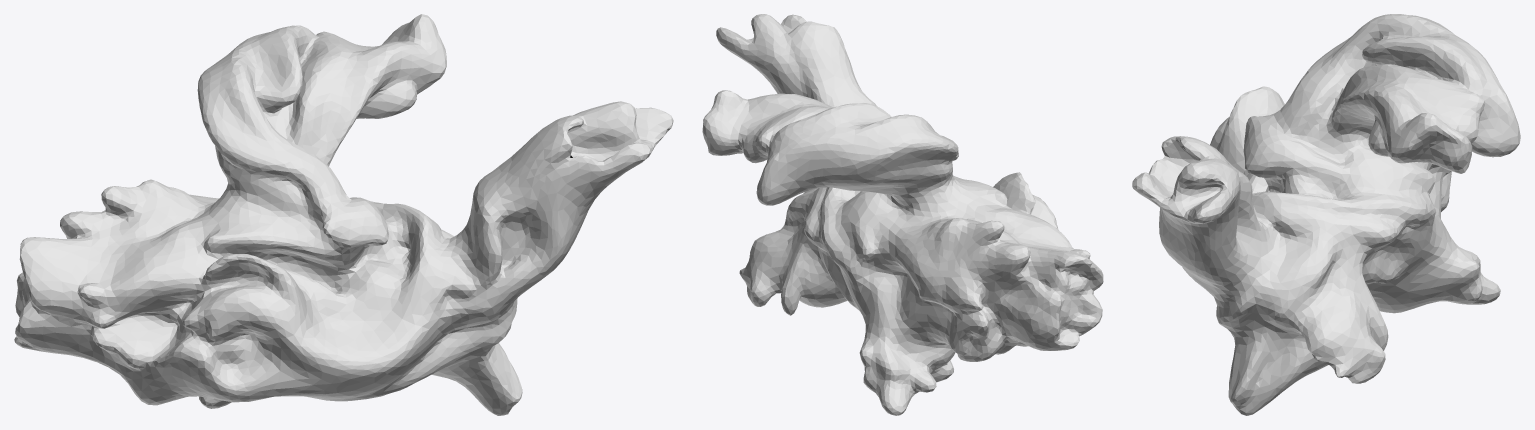
The model's file is driftwood01.glb.
3 views of the same model, side by side, from view 1: azimuth 30°, elevation 25°; view 2: azimuth 150°, elevation 25°; view 3: azimuth 270°, elevation 25° (orthographic). The views are drawn at different scales.
Parts seen in each view (by area): view 1: Low; view 2: Low; view 3: Low.
Boxes of the visible parts, <box> form: Low: <box>14,14,673,415</box>; Low: <box>702,14,1103,415</box>; Low: <box>1132,14,1520,415</box>.
Bounding box in the file's own units: 1.98 × 1.14 × 1.25.
Materials: 1 (1 with a texture image).
